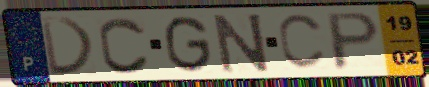C: (96, 15, 152, 76), (275, 12, 328, 72)
D: (38, 16, 99, 78)
G: (163, 14, 215, 75)
N: (210, 11, 272, 75)
P: (325, 10, 383, 73)
